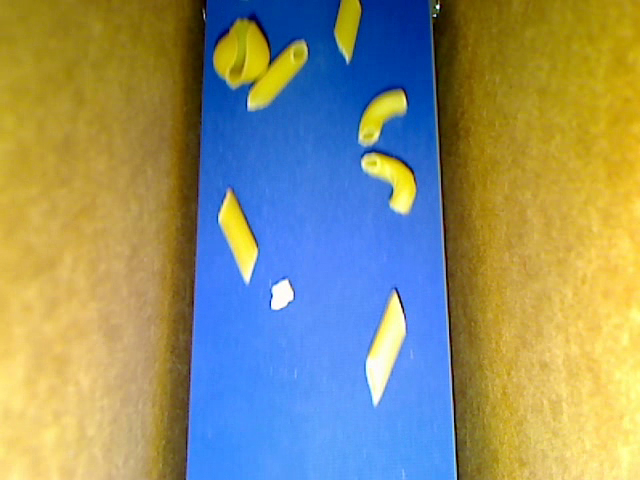elbow: (361, 152, 416, 213), (358, 90, 407, 146)
penne: (364, 287, 407, 407), (246, 40, 307, 111), (216, 186, 259, 283), (334, 1, 361, 65)
shell: (213, 19, 270, 89)
